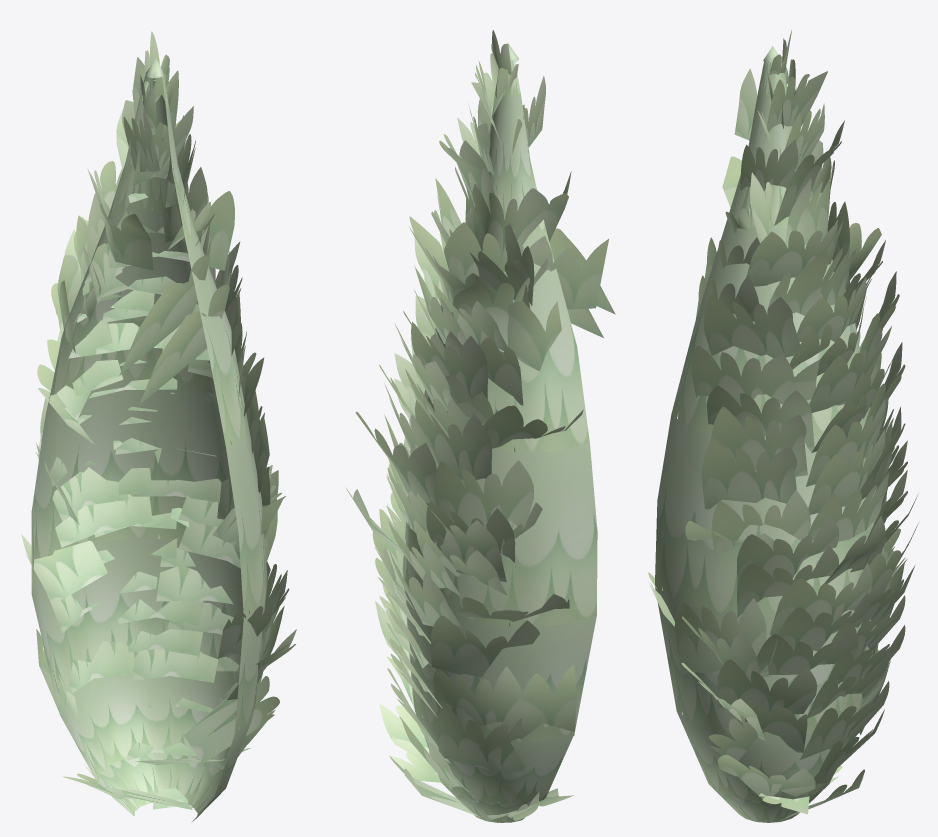
The model's file is MiniPine.fbx.
The picture shows the model from 3 angles, left to right: view 1: azimuth 30°, elevation 25°; view 2: azimuth 150°, elevation 25°; view 3: azimuth 270°, elevation 25°; orthographic projection.
Parts seen in each view (by area): view 1: MiniPineShape, MiniPineLeaves1, MiniPineLeaves4, MiniPineLeaves3, MiniPineLeaves2; view 2: MiniPineShape, MiniPineLeaves1, MiniPineLeaves4, MiniPineLeaves3, MiniPineLeaves2; view 3: MiniPineShape, MiniPineLeaves4, MiniPineLeaves3, MiniPineLeaves2, MiniPineLeaves1.
Part boxes in pixels (x1,y1,x2,y2): MiniPineShape: (31,58,267,822); MiniPineLeaves1: (57,31,234,375); MiniPineLeaves4: (36,561,296,809); MiniPineLeaves3: (21,398,285,604); MiniPineLeaves2: (37,241,264,453); MiniPineShape: (402,43,597,822); MiniPineLeaves1: (409,30,615,370); MiniPineLeaves4: (375,539,577,820); MiniPineLeaves3: (345,378,569,627); MiniPineLeaves2: (379,237,603,479); MiniPineShape: (655,46,884,822); MiniPineLeaves4: (648,551,915,821); MiniPineLeaves3: (685,400,919,634); MiniPineLeaves2: (691,271,905,476); MiniPineLeaves1: (704,30,885,318).
Size of what is drawn, in the model's own units: 2.42 by 7.84 by 2.49.
